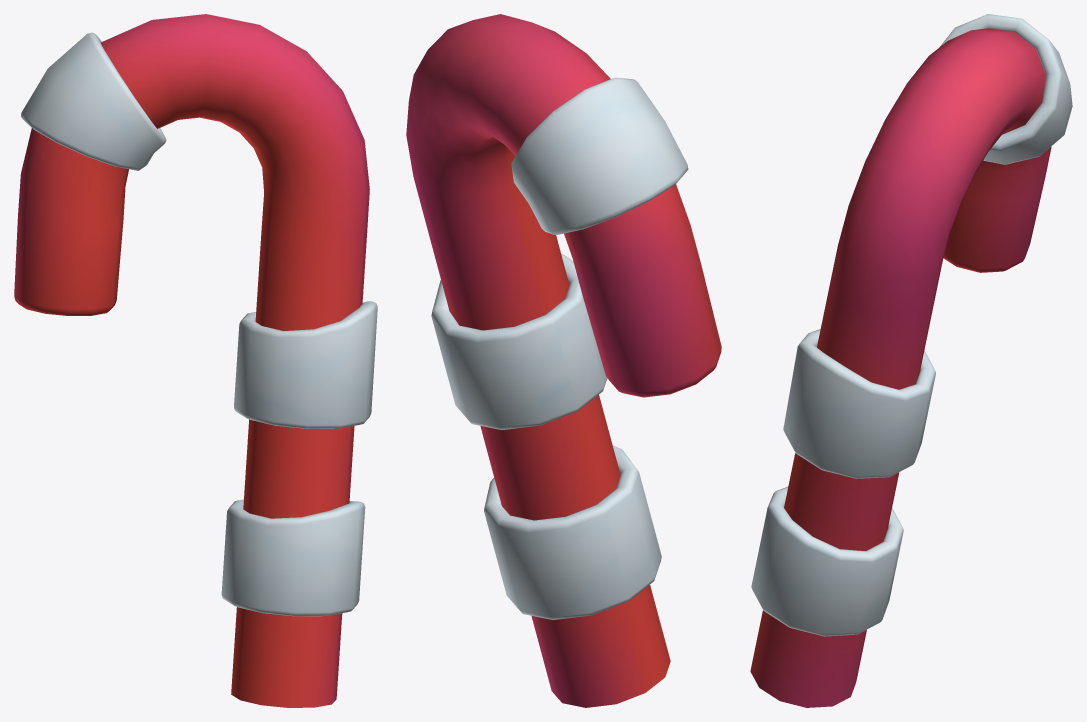
The model's file is escenario_navidad_dulce.fbx.
3 renders of one model, left to right at view 1: azimuth 30°, elevation 25°; view 2: azimuth 150°, elevation 25°; view 3: azimuth 270°, elevation 25°, orthographic. The views are drawn at different scales.
Parts seen in each view (by area): view 1: Baston Dulce.002; view 2: Baston Dulce.002; view 3: Baston Dulce.002.
Part boxes in pixels (bbox=[...]): Baston Dulce.002: bbox=[14, 14, 377, 707]; Baston Dulce.002: bbox=[406, 14, 721, 707]; Baston Dulce.002: bbox=[750, 14, 1072, 707].
Size of the model in its own units: 885 by 1788 by 816.
